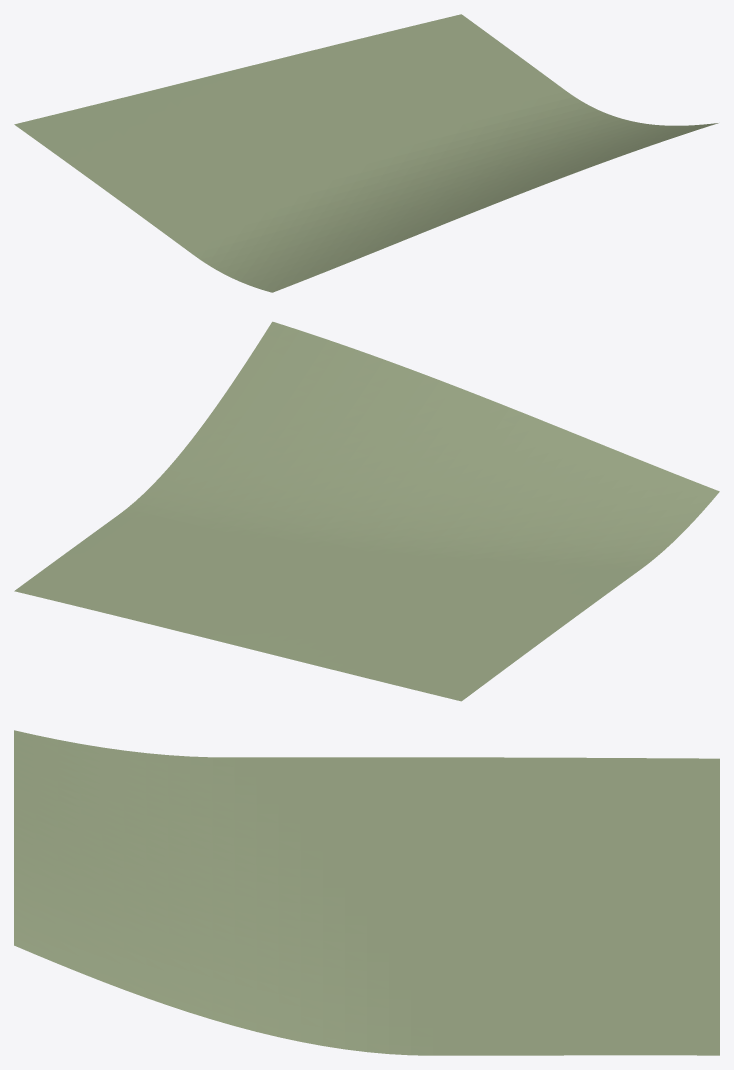
Rendered from desert-25-17.glb.
3 renders of one model, top to bottom at view 1: azimuth 30°, elevation 25°; view 2: azimuth 150°, elevation 25°; view 3: azimuth 270°, elevation 25°, orthographic. The views are drawn at different scales.
Visible parts, largest first — view 1: desert-25-17; view 2: desert-25-17; view 3: desert-25-17.
Boxes of the visible parts, x1,y1,x2,y2 form: desert-25-17: (14,14,718,292); desert-25-17: (14,321,719,701); desert-25-17: (14,730,719,1055).
Bounding box in the file's own units: 512 × 89.24 × 512.
